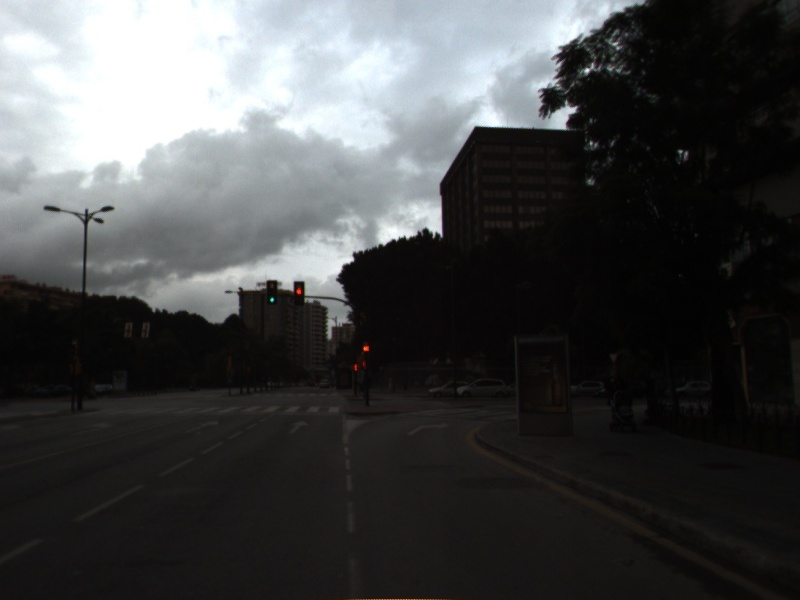RIGHT: (404, 419, 452, 438)
STRAIGHT: (181, 417, 222, 436), (284, 418, 313, 436)
